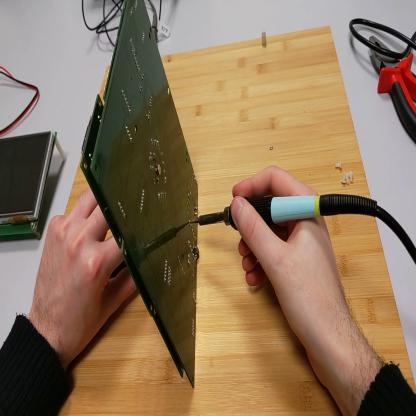hand: (231, 170, 352, 372), (31, 186, 138, 362)
low voltage board: (81, 2, 200, 390)
oscilloscope probe tip: (152, 8, 159, 44)
pliers: (370, 35, 416, 144)
welder probe tip: (191, 194, 379, 230)
working area: (55, 27, 416, 415)
